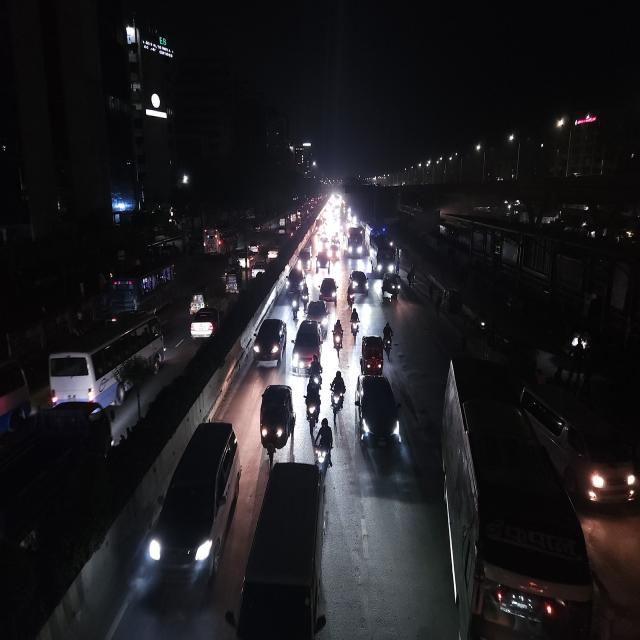bus: (441, 353, 593, 640), (46, 308, 166, 408), (108, 259, 178, 314), (368, 231, 396, 279), (201, 226, 237, 258), (345, 224, 365, 260)
car: (144, 418, 242, 609), (518, 372, 640, 512), (236, 457, 329, 640), (353, 371, 404, 458), (252, 313, 288, 370), (291, 318, 325, 377), (188, 305, 224, 343), (346, 266, 370, 300), (381, 270, 402, 304), (317, 274, 338, 304), (285, 266, 306, 295), (306, 298, 328, 324), (314, 251, 332, 276), (297, 246, 313, 273), (266, 243, 279, 263)
cng: (258, 379, 295, 463), (360, 332, 384, 376), (222, 261, 242, 297), (187, 284, 207, 316)
motorcycle: (314, 414, 334, 477), (305, 374, 322, 423), (330, 368, 346, 420), (381, 320, 395, 357), (309, 352, 323, 388), (332, 316, 344, 356), (348, 306, 362, 340), (291, 298, 299, 324)
